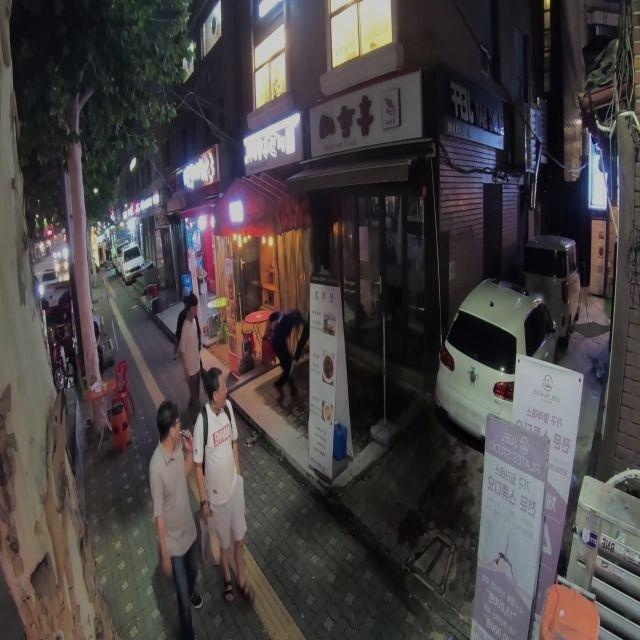fight: (146, 394, 206, 640), (265, 309, 309, 412)
non-fight: (192, 364, 248, 597)
